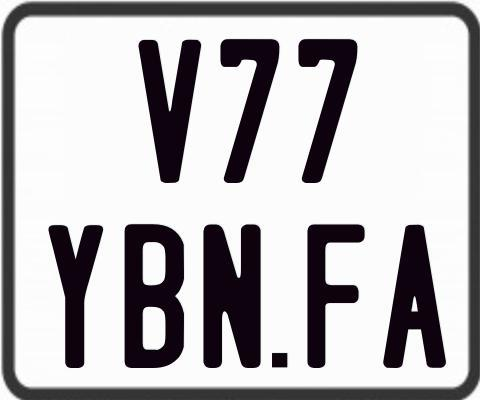7: (217, 36, 276, 185), (295, 39, 356, 183)
A: (383, 224, 446, 369)
B: (123, 224, 183, 370)
F: (306, 223, 364, 372)
N: (200, 221, 258, 370)
V: (136, 38, 200, 182)
Y: (49, 222, 108, 368)
